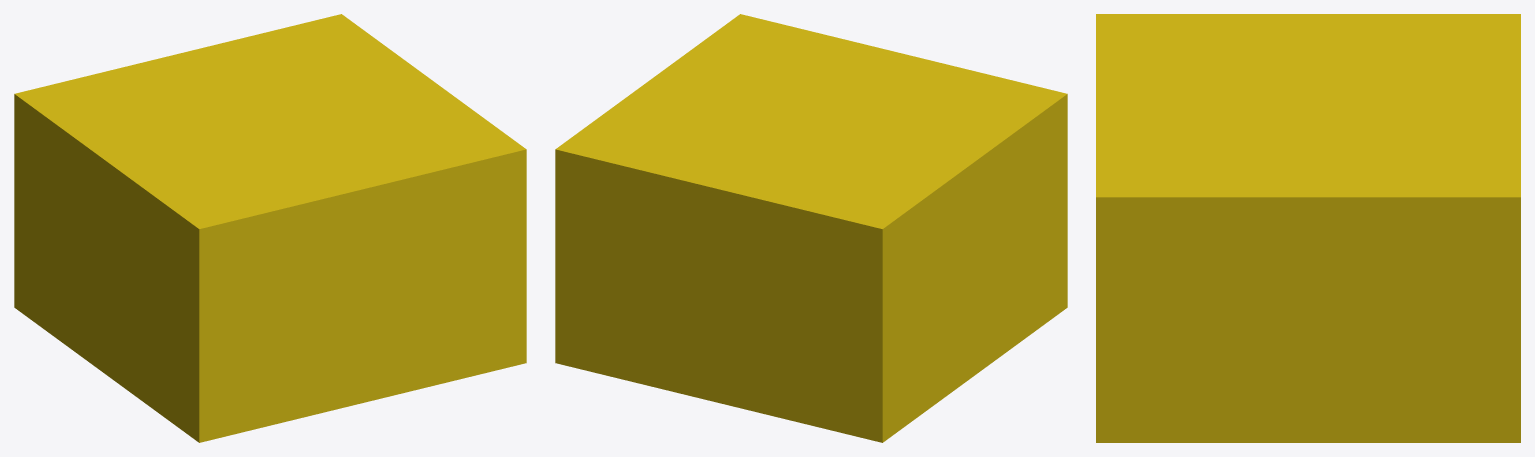
3 renders of one model, left to right at view 1: azimuth 30°, elevation 25°; view 2: azimuth 150°, elevation 25°; view 3: azimuth 270°, elevation 25°, orthographic. The views are drawn at different scales.
Visible parts, largest first — view 1: Box; view 2: Box; view 3: Box.
Boxes of the visible parts, bbox=[...] form: Box: bbox=[14, 14, 526, 442]; Box: bbox=[555, 14, 1067, 442]; Box: bbox=[1096, 14, 1520, 442].
Size of what is drawn, in the model's own units: 1.02 by 0.6375 by 1.
